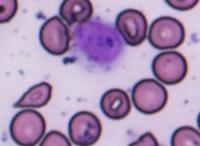L: (70, 16, 127, 72)
